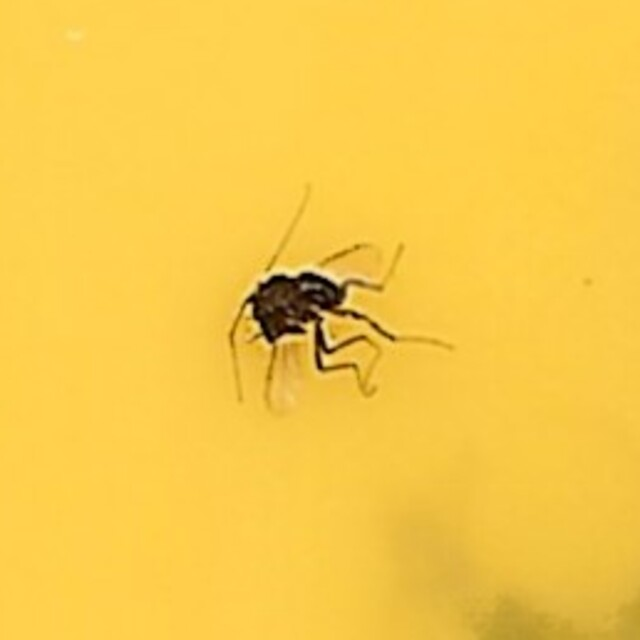Brachycera: (248, 260, 392, 380)
